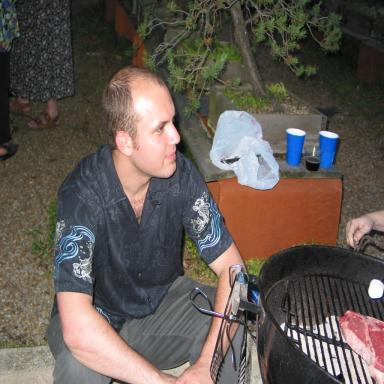plasticbag: (209, 109, 280, 189)
